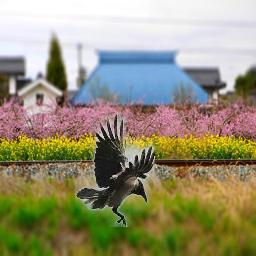Crow: (75, 113, 155, 227)
